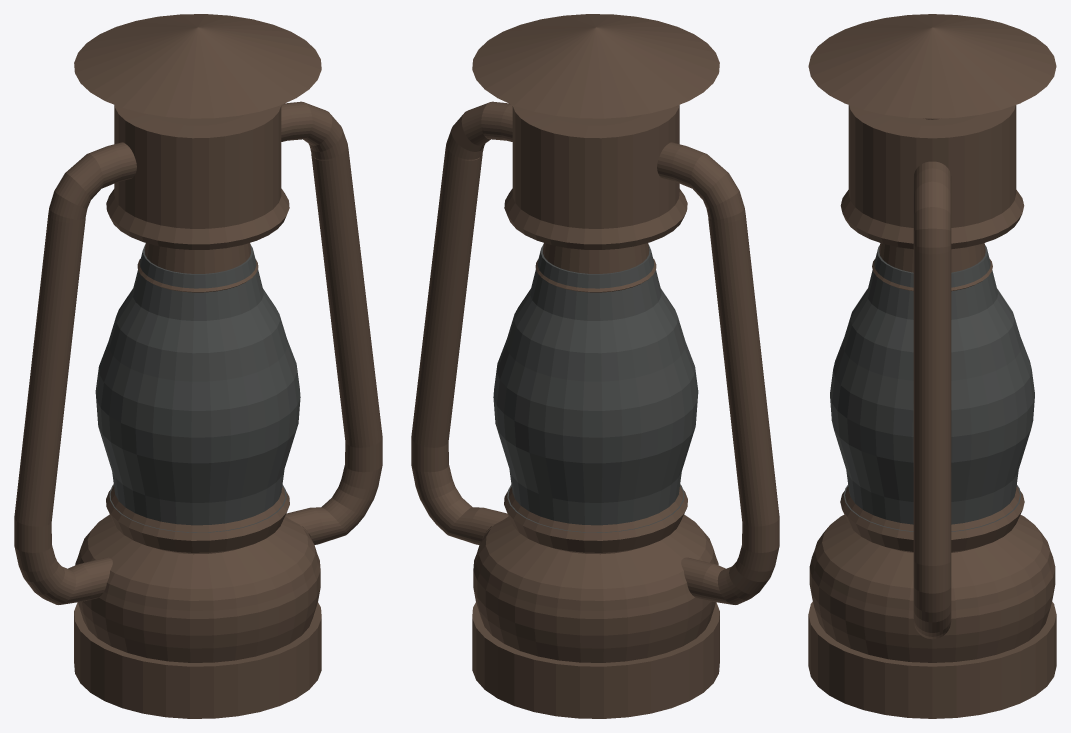
File: lampe_9336_autosave.obj
3 views of the same model, side by side, from view 1: azimuth 30°, elevation 25°; view 2: azimuth 150°, elevation 25°; view 3: azimuth 270°, elevation 25° (orthographic).
Visible parts, largest first — view 1: Cylinder.000_Cylinder.004; view 2: Cylinder.000_Cylinder.004; view 3: Cylinder.000_Cylinder.004.
Part boxes in pixels (x1=…): Cylinder.000_Cylinder.004: x1=14, y1=14, x2=382, y2=718; Cylinder.000_Cylinder.004: x1=411, y1=14, x2=779, y2=718; Cylinder.000_Cylinder.004: x1=808, y1=14, x2=1056, y2=718.
Size of the model in its own units: 3.38 by 5.68 by 2.
1 material, 1 textured.
